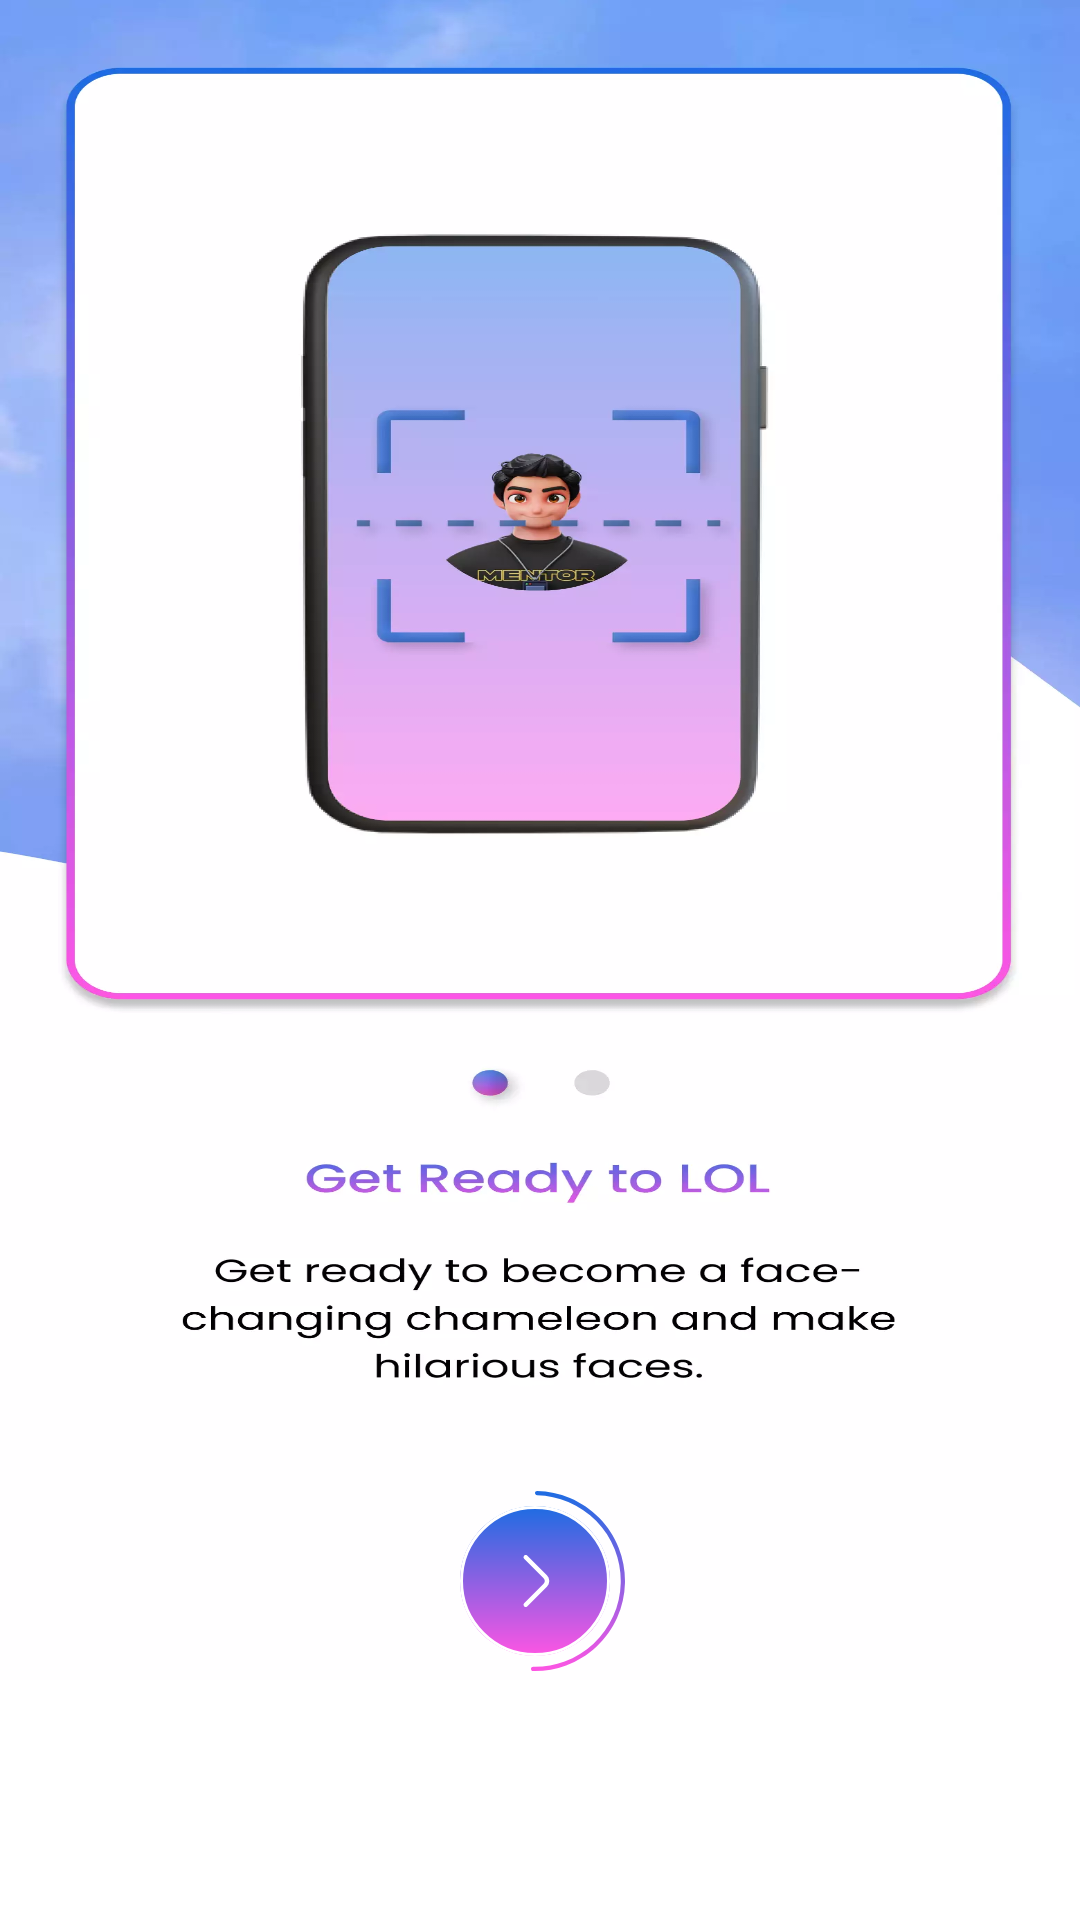

Screen size 1080 x 1920. Icon name, then its box in pixels as bbox=(x1, y1, x2, y2):
half next: bbox=(460, 1491, 625, 1671)
